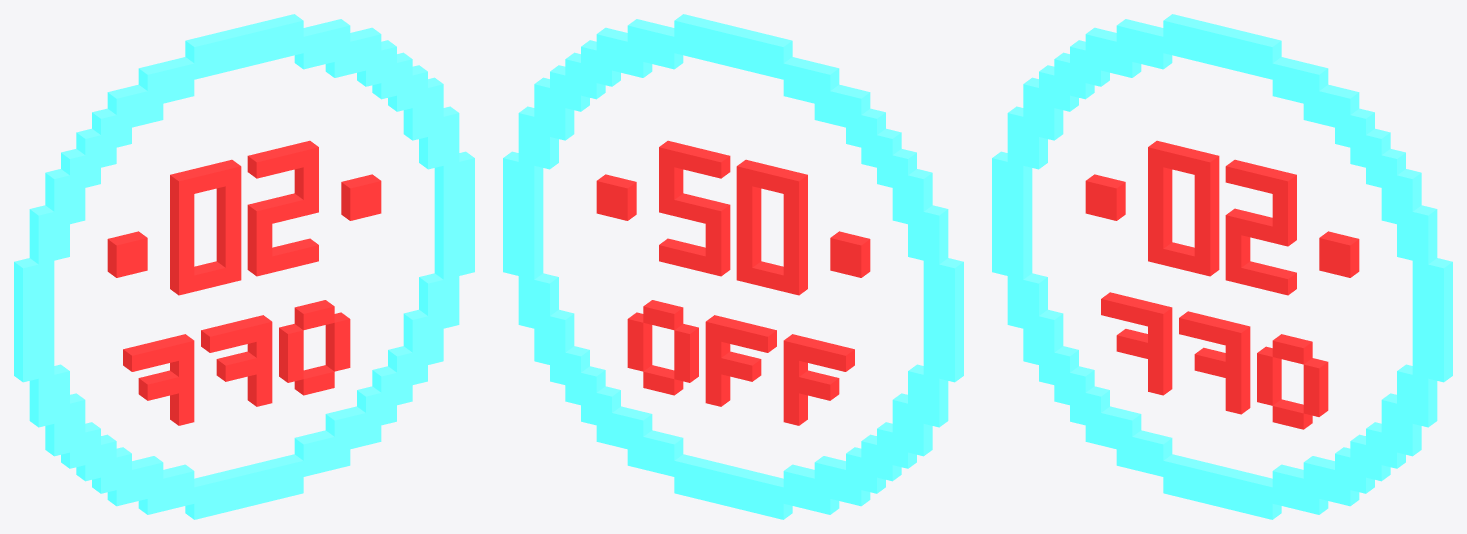
3 views of the same model, side by side, from view 1: azimuth 30°, elevation 25°; view 2: azimuth 150°, elevation 25°; view 3: azimuth 330°, elevation 25° (orthographic).
Parts seen in each view (by area): view 1: Content; view 2: Content; view 3: Content.
Part boxes in pixels (x1=…): Content: x1=14, y1=14, x2=474, y2=519; Content: x1=503, y1=14, x2=963, y2=519; Content: x1=992, y1=14, x2=1452, y2=519.
Bounding box in the file's own units: 29 × 29 × 1.
1 material, 1 textured.
